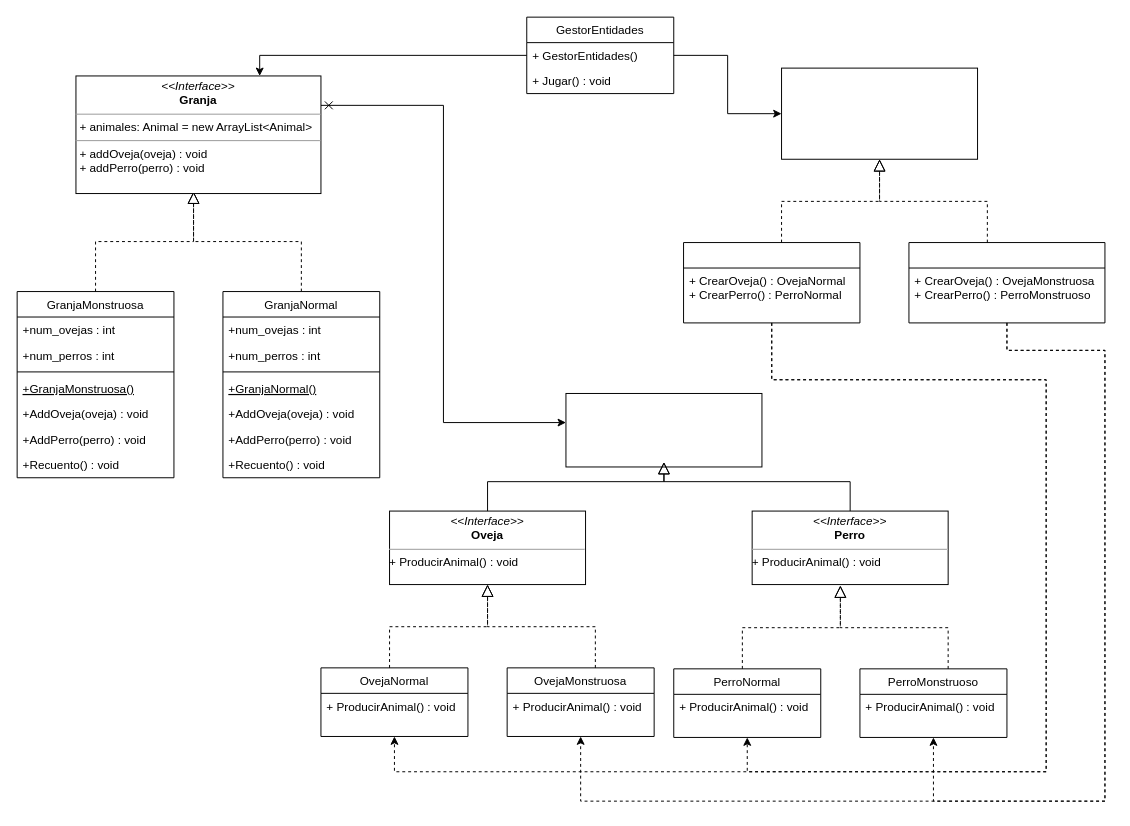
This 1130x826 diagram has some shape labels left out. The box of each missing label's shape, as (x1, y1, x2, y2) in pixels:
<<Interface>> Animal + ProducirAnimal() : void: (565, 392, 762, 467)
<<Interface>> AnimalFactory + CrearOveja() : Animal + CrearPerro() : Animal: (781, 67, 978, 159)
FactoriaMonstruosa: (908, 242, 1105, 323)
FactoriaNormal: (683, 242, 860, 323)
